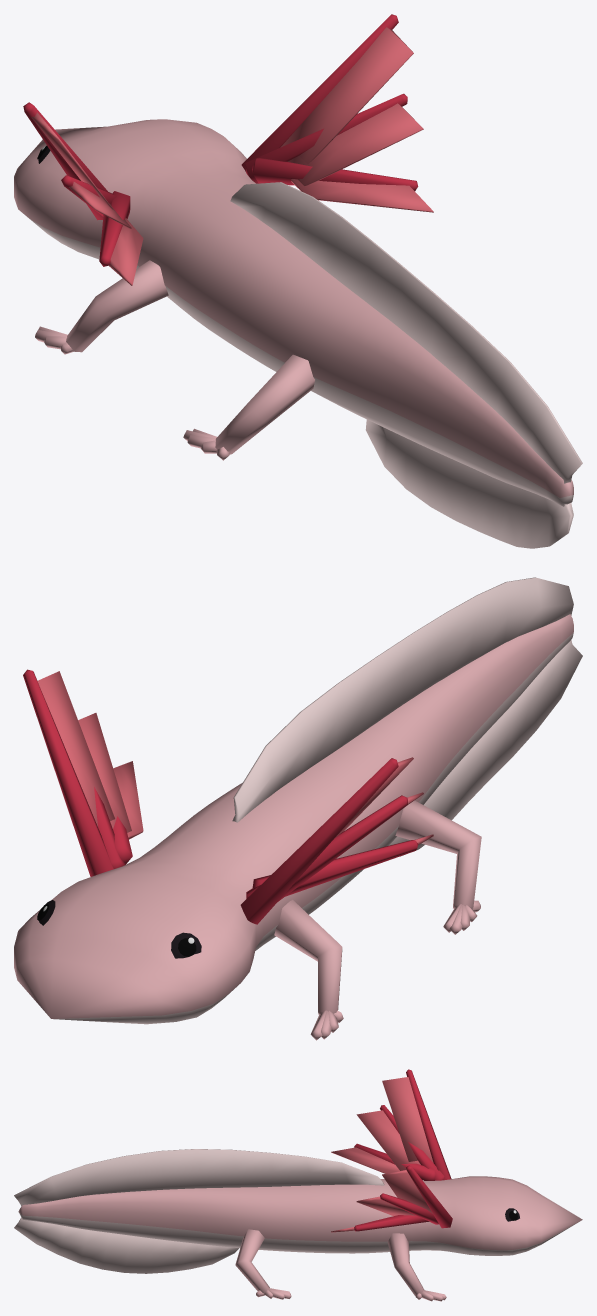
Rendered from axolotl.glb.
The picture shows the model from 3 angles, top to bottom: view 1: azimuth 30°, elevation 25°; view 2: azimuth 150°, elevation 25°; view 3: azimuth 270°, elevation 25°; orthographic projection. The views are drawn at different scales.
Parts seen in each view (by area): view 1: axolotl; view 2: axolotl; view 3: axolotl.
Boxes of the visible parts, left/top/right/bottom form: axolotl: left=14, top=14, right=582, bottom=548; axolotl: left=14, top=577, right=582, bottom=1040; axolotl: left=14, top=1069, right=582, bottom=1301.
Bounding box in the file's own units: 1.06 × 0.7744 × 2.58.
